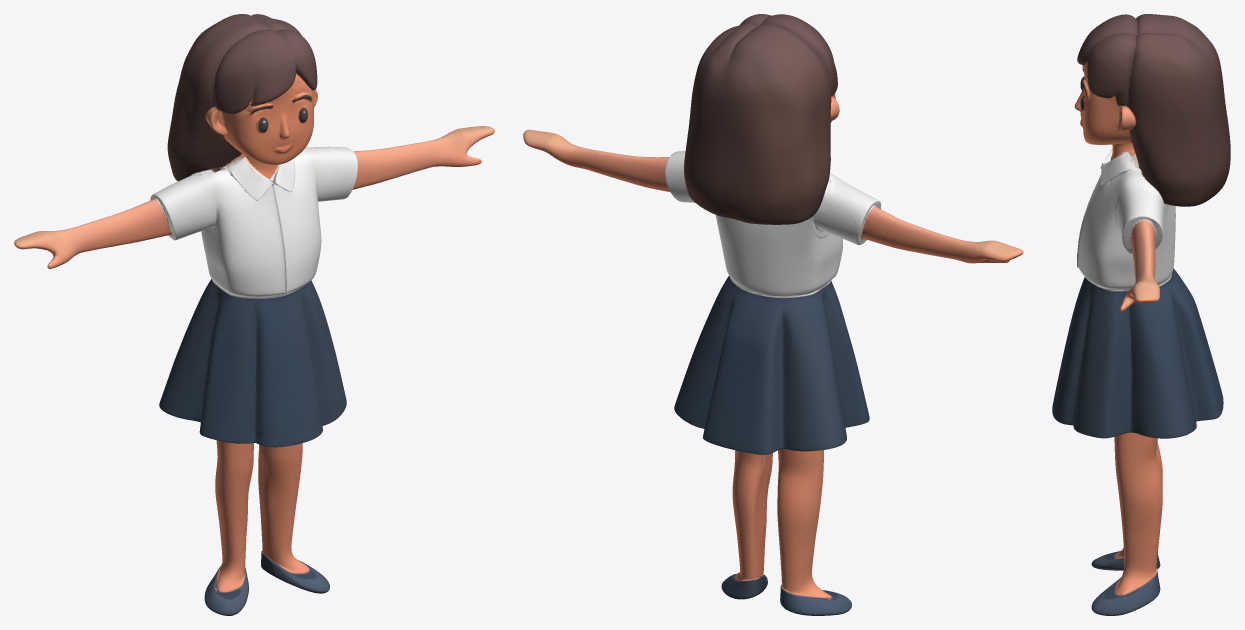
The model's file is base_basic_pbr.fbx.
3 renders of one model, left to right at view 1: azimuth 30°, elevation 25°; view 2: azimuth 150°, elevation 25°; view 3: azimuth 270°, elevation 25°, orthographic. The views are drawn at different scales.
Parts seen in each view (by area): view 1: model; view 2: model; view 3: model.
Part boxes in pixels (left/top/right/bottom): model: left=14, top=14, right=494, bottom=615; model: left=523, top=14, right=1023, bottom=615; model: left=1052, top=14, right=1230, bottom=615.
Bounding box in the file's own units: 169 × 190 × 53.96.
1 material, 1 textured.
